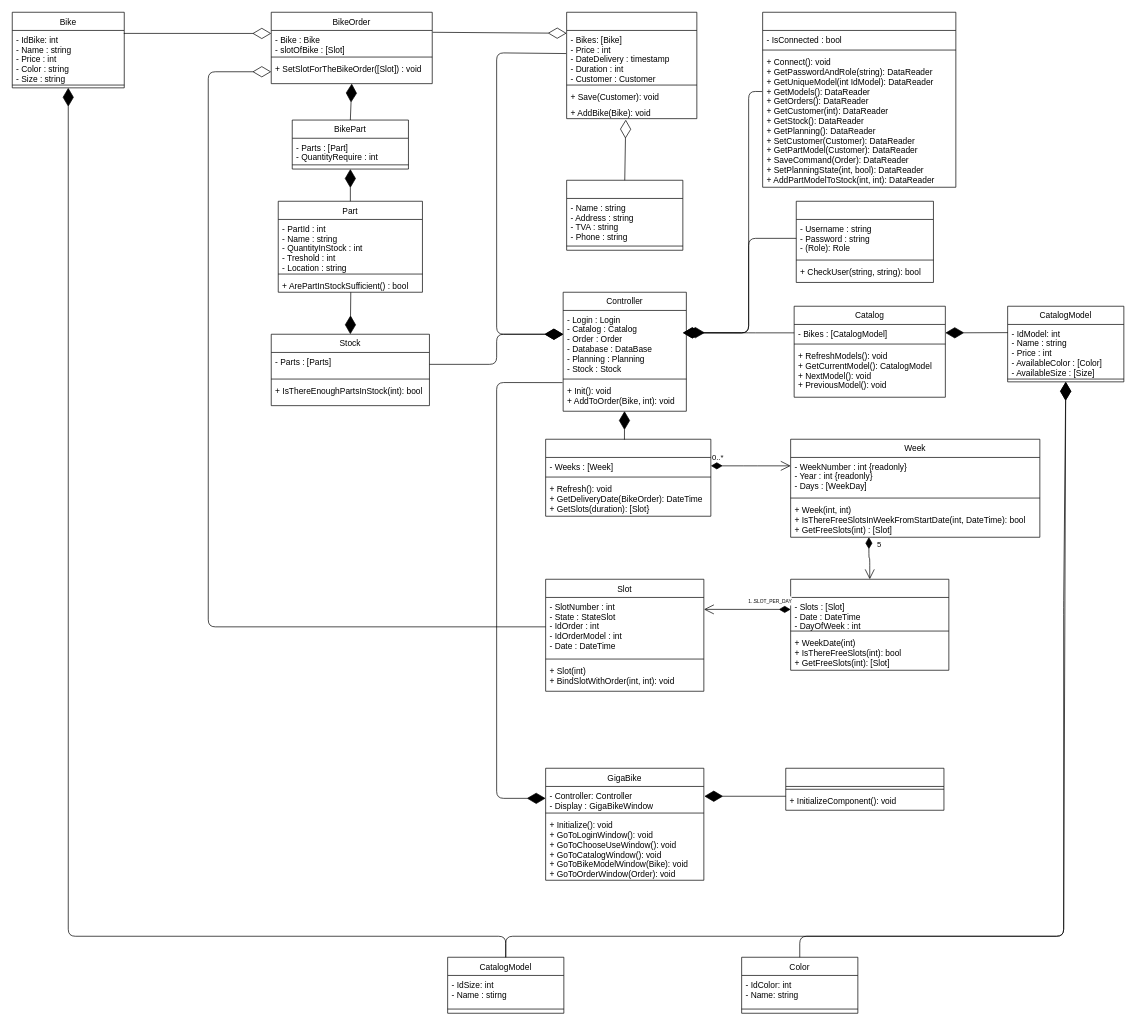
Some shapes in this 1136 by 1026 pixel diagram are drawn without their labels. Here are the shapes that lost their labels. From the top down, the box of each, then its label:
(566, 12, 697, 119): Order
(762, 12, 956, 187): DataBase
(566, 180, 683, 250): Customer
(796, 201, 933, 282): Login
(545, 439, 711, 516): Planning
(790, 579, 949, 670): WeekDay
(785, 768, 944, 810): GigaBikeWindow
